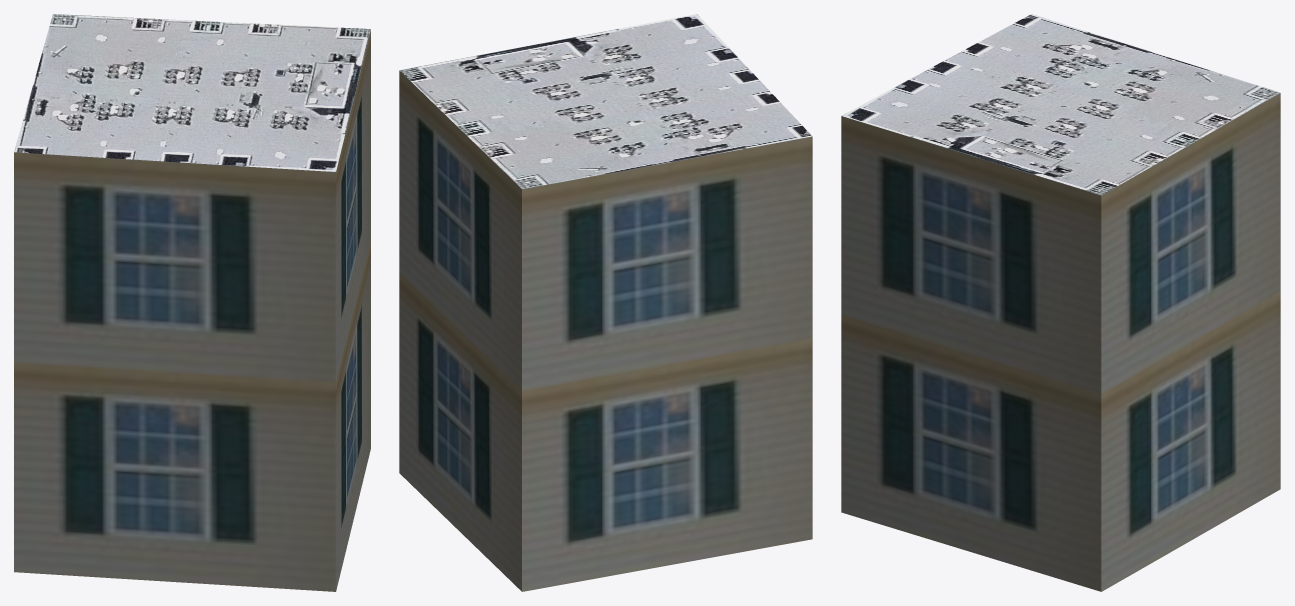
File: ResTex__2011.fbx
3 renders of one model, left to right at view 1: azimuth 30°, elevation 25°; view 2: azimuth 150°, elevation 25°; view 3: azimuth 270°, elevation 25°, orthographic. The views are drawn at different scales.
Visible parts, largest first — view 1: CityEngineMaterial_7_m, CityEngineMaterial_4_m; view 2: CityEngineMaterial_7_m, CityEngineMaterial_4_m; view 3: CityEngineMaterial_7_m, CityEngineMaterial_4_m.
Part boxes in pixels (x1,y1,x2,y2): CityEngineMaterial_7_m: (14,29,370,591); CityEngineMaterial_4_m: (14,14,370,171); CityEngineMaterial_7_m: (399,71,812,591); CityEngineMaterial_4_m: (399,14,812,188); CityEngineMaterial_7_m: (841,93,1280,591); CityEngineMaterial_4_m: (841,14,1280,195).
Size of the model in its own units: 5.89 by 6 by 6.03.
Materials: 2 (2 with a texture image).
